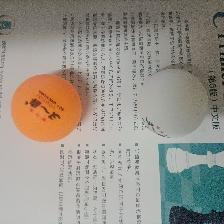WhiteBall: (137, 67, 208, 138)
YellowBall: (11, 73, 82, 142)
